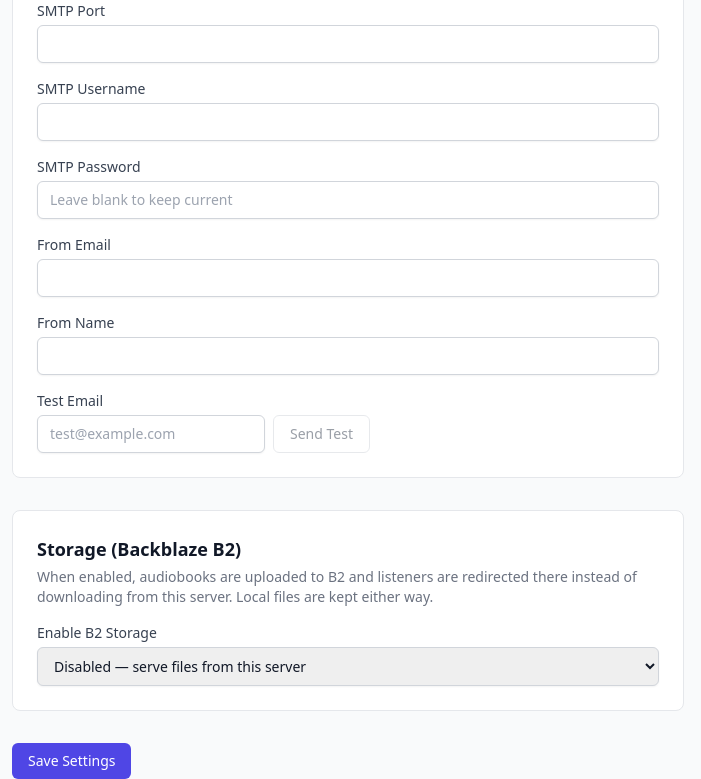
it: SettingsPage › Send Test posts the recipient address
(page scrolled)
In the field labelled "Test Email": (151, 434) [37,415,265,453], type "me@example.com"
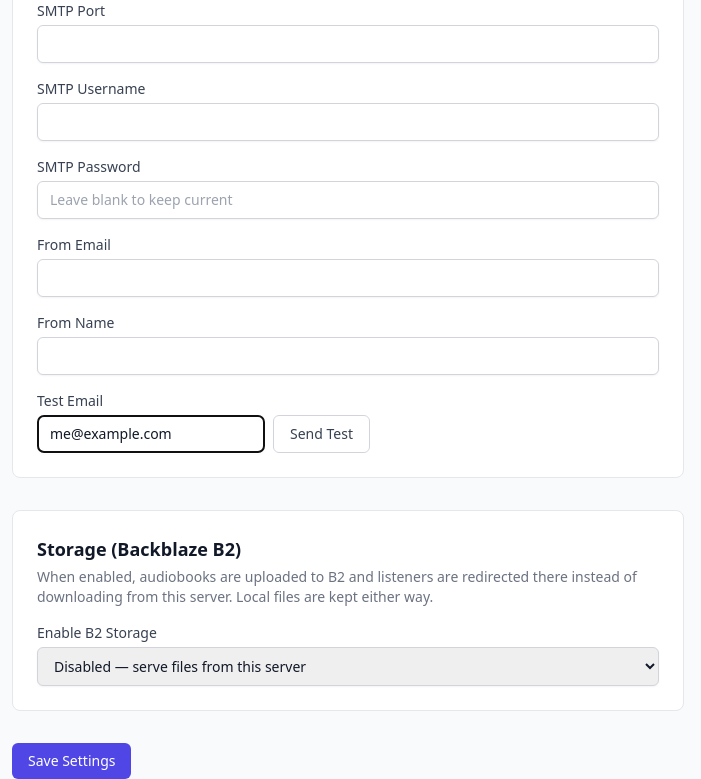
Click the button "Send Test": click(322, 434) [273,415,370,453]
(page scrolled)
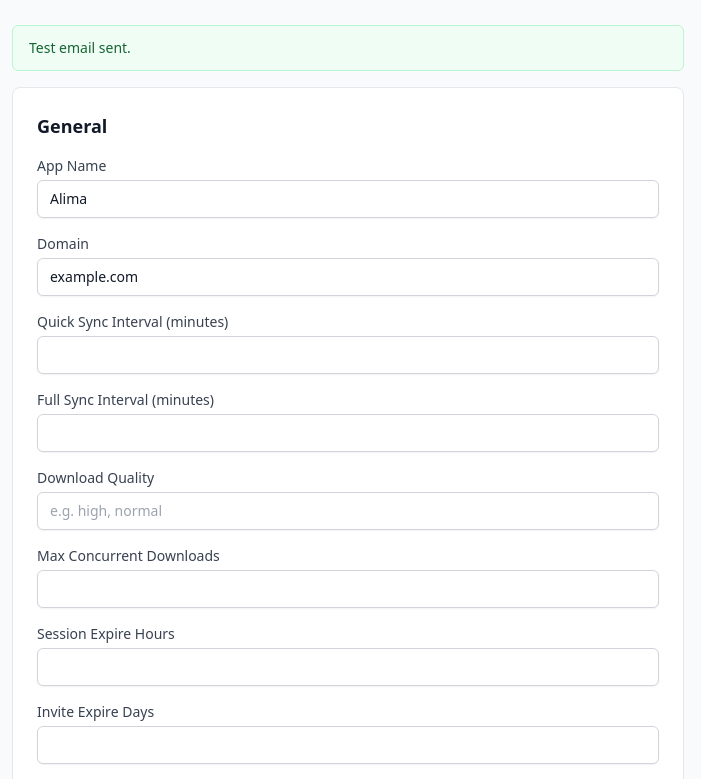
Result: the text "Test email sent." is shown at [12,25,684,71]
